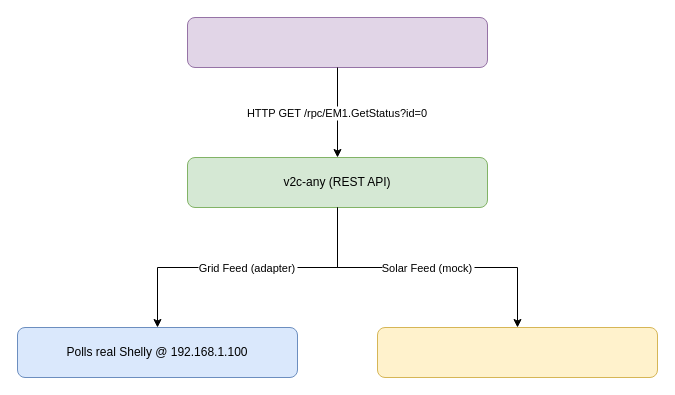
The diagram is 675 pixels wide and 395 high, and some of its shapes have lost their labels. The centre of each missing label's shape, as x and y in pixels:
"Returns fixed value" belongs at pixel 517 352.
"V2C Wallbox" belongs at pixel 337 42.
